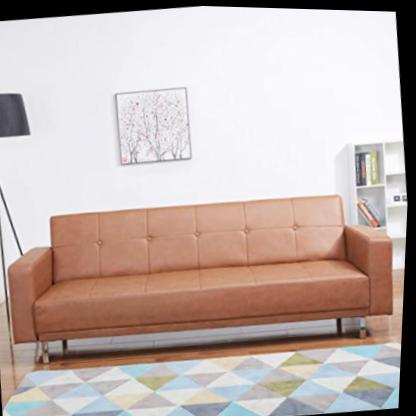Sofa: (1, 179, 405, 376)
